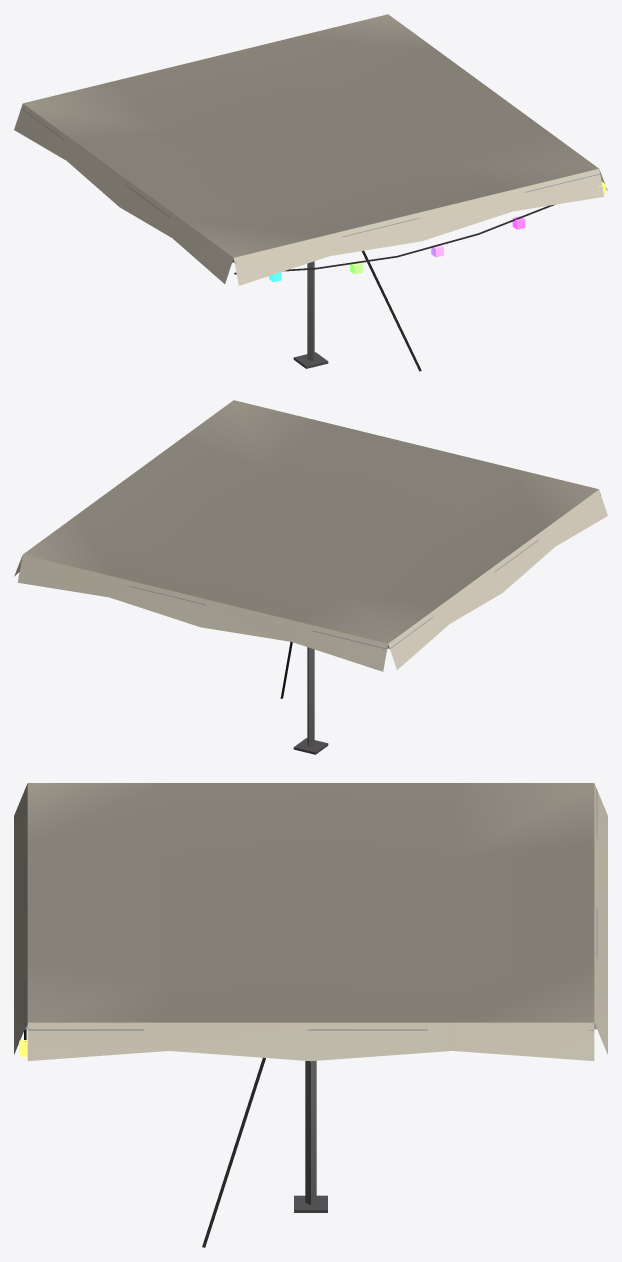
Rendered from shade_lo.glb.
The picture shows the model from 3 angles, top to bottom: view 1: azimuth 30°, elevation 25°; view 2: azimuth 150°, elevation 25°; view 3: azimuth 270°, elevation 25°; orthographic projection. The views are drawn at different scales.
Visible parts, largest first — view 1: cover, valance_0, valance_1, pole_pipe, wire; view 2: cover, valance_2, valance_1, pole_pipe; view 3: cover, valance_3, valance_2, valance_0, pole_pipe, guy_line.
Boxes of the visible parts, left/top/right/bottom form: cover: left=23, top=14, right=598, bottom=258; valance_0: left=234, top=169, right=604, bottom=285; valance_1: left=14, top=103, right=233, bottom=283; pole_pipe: left=307, top=261, right=314, bottom=360; wire: left=234, top=204, right=555, bottom=274; cover: left=23, top=400, right=598, bottom=644; valance_2: left=17, top=554, right=387, bottom=671; valance_1: left=388, top=489, right=607, bottom=669; pole_pipe: left=307, top=647, right=314, bottom=746; cover: left=27, top=783, right=594, bottom=1022; valance_3: left=27, top=1022, right=594, bottom=1061; valance_2: left=594, top=783, right=607, bottom=1054; valance_0: left=14, top=783, right=27, bottom=1054; pole_pipe: left=305, top=1061, right=316, bottom=1204; guy_line: left=202, top=1057, right=265, bottom=1247.
Bounding box in the file's own units: 5.24 × 2.95 × 5.24.
